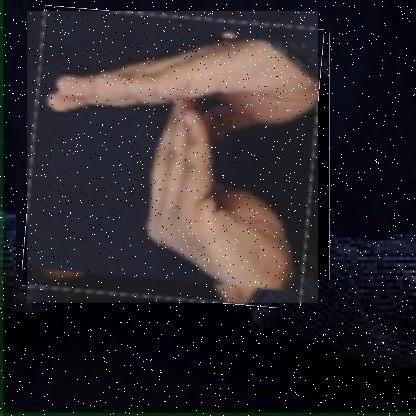Z: (26, 11, 318, 304)
